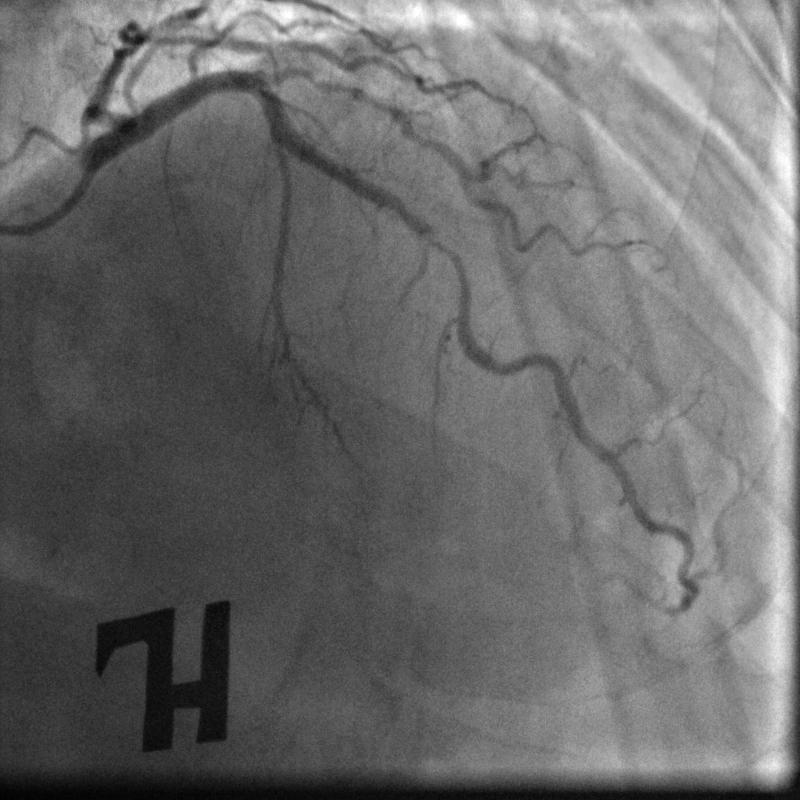Stenosis: (428, 238, 472, 306)
